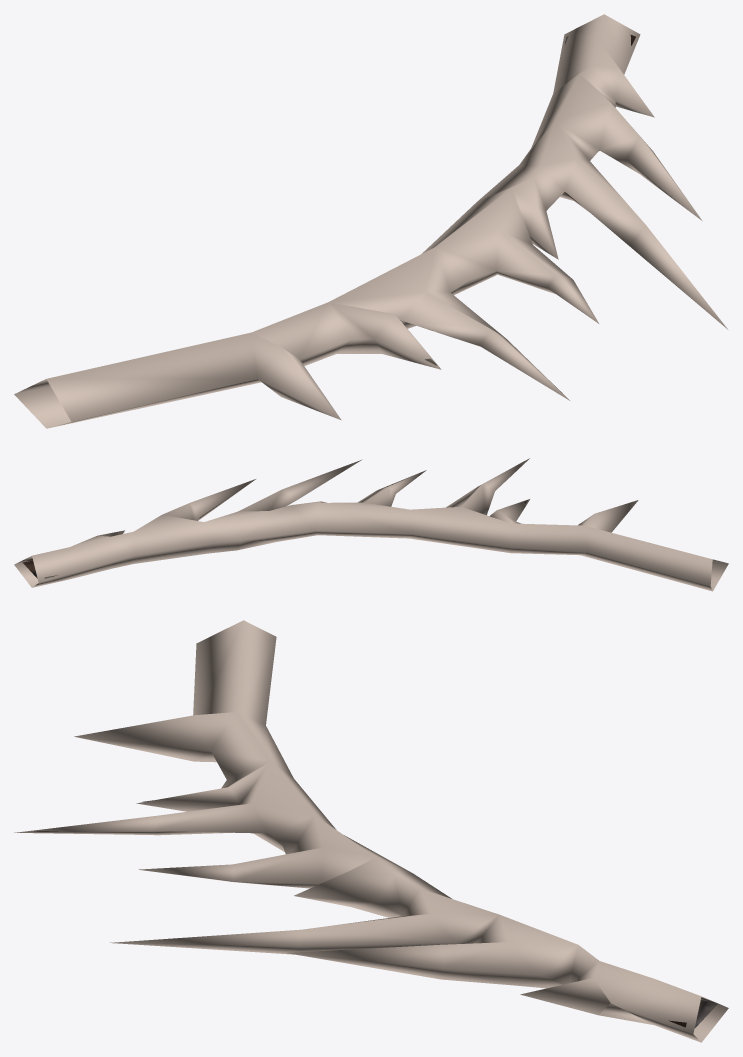
3 renders of one model, top to bottom at view 1: azimuth 30°, elevation 25°; view 2: azimuth 150°, elevation 25°; view 3: azimuth 270°, elevation 25°, orthographic. The views are drawn at different scales.
Visible parts, largest first — view 1: Object53; view 2: Object53; view 3: Object53.
Part boxes in pixels (x1,y1,x2,y2): Object53: (14,14,727,428); Object53: (14,458,728,591); Object53: (14,620,728,1042).
Bounding box in the file's own units: 60838 × 4695 × 47476.
